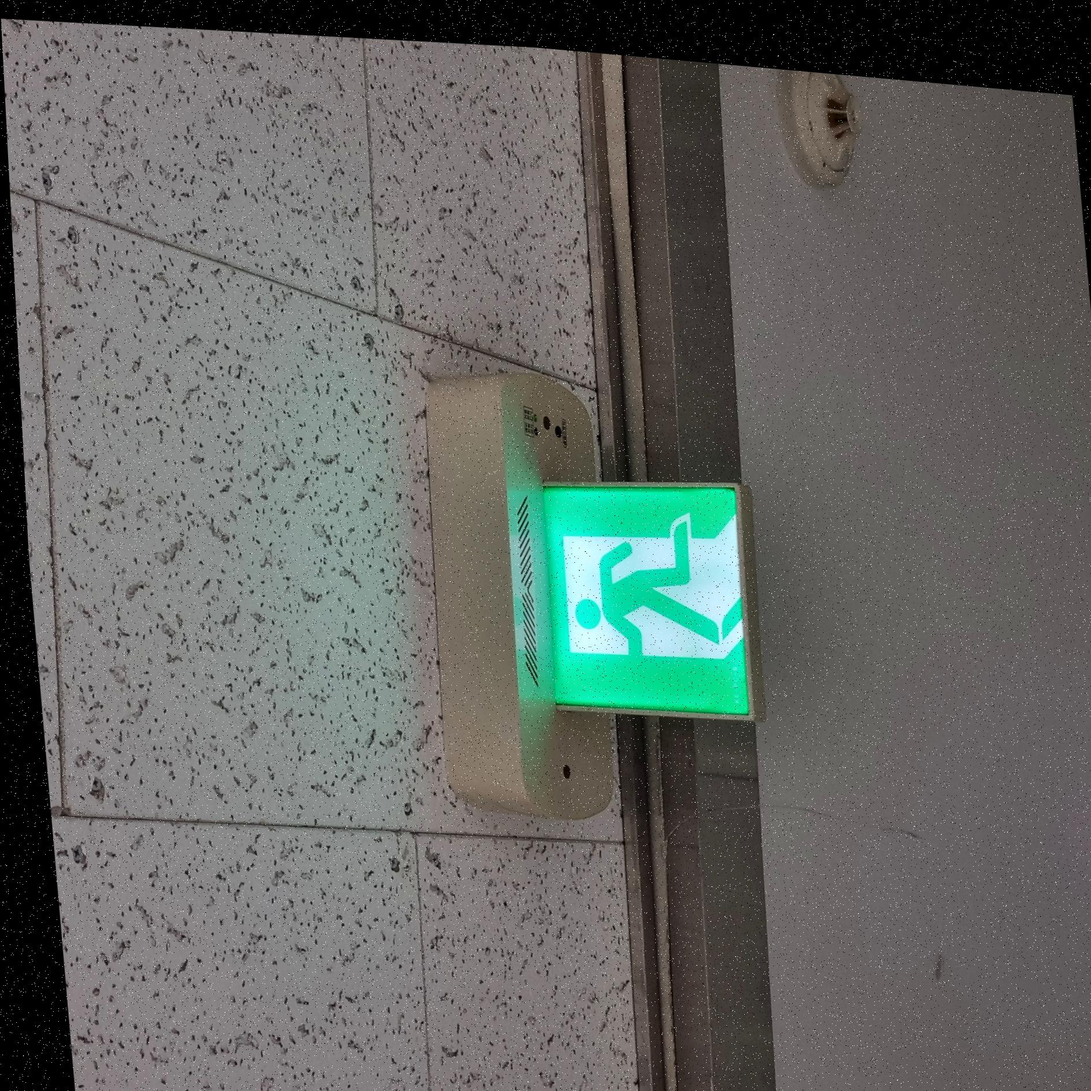emergency_exit: (539, 478, 757, 722)
